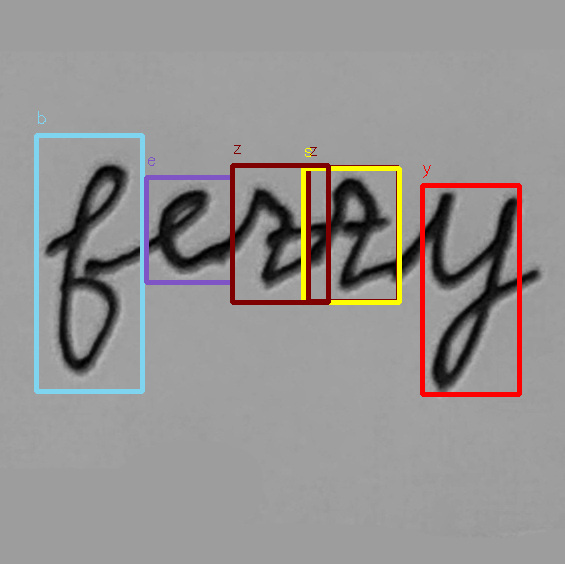e: (151, 185, 218, 276)
f: (52, 159, 132, 379)
y: (416, 185, 523, 396)
z: (320, 172, 396, 293), (238, 182, 305, 289)
